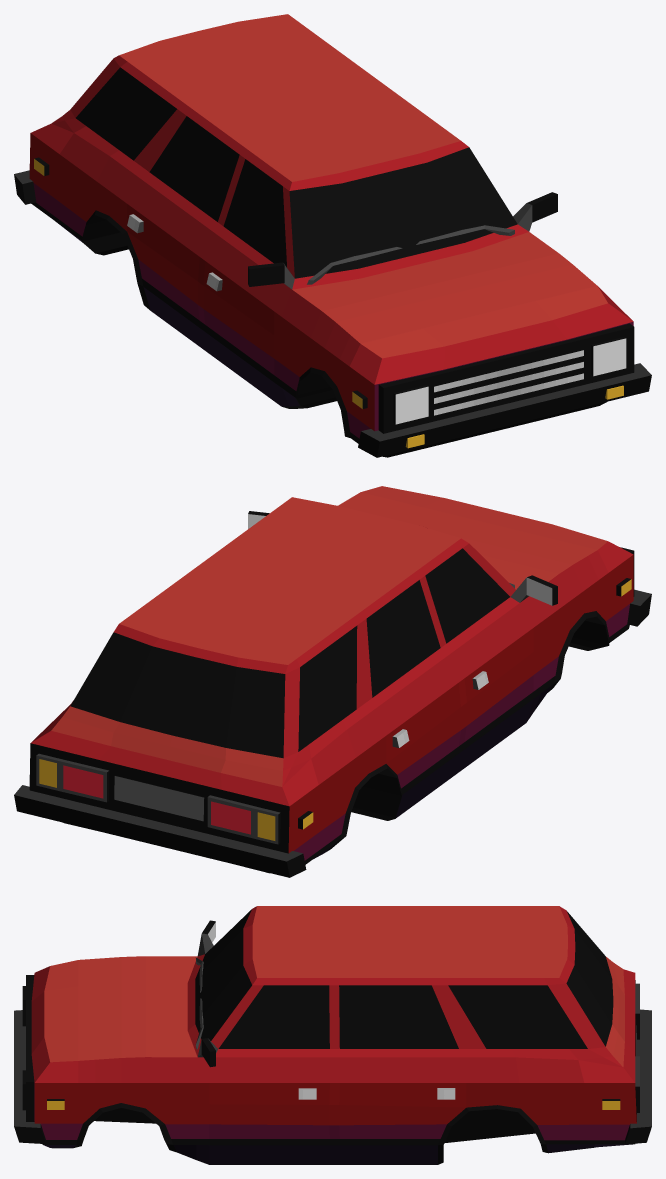
The model's file is StationWagon.001.fbx.
3 views of the same model, one above another, from view 1: azimuth 30°, elevation 25°; view 2: azimuth 150°, elevation 25°; view 3: azimuth 270°, elevation 25° (orthographic). The views are drawn at different scales.
Parts seen in each view (by area): view 1: StationWagon.001; view 2: StationWagon.001; view 3: StationWagon.001.
Part boxes in pixels (x1,y1,x2,y2): StationWagon.001: [14, 14, 651, 457]; StationWagon.001: [14, 486, 651, 877]; StationWagon.001: [14, 906, 651, 1164].
Bounding box in the file's own units: 1.84 × 1.14 × 3.78.
